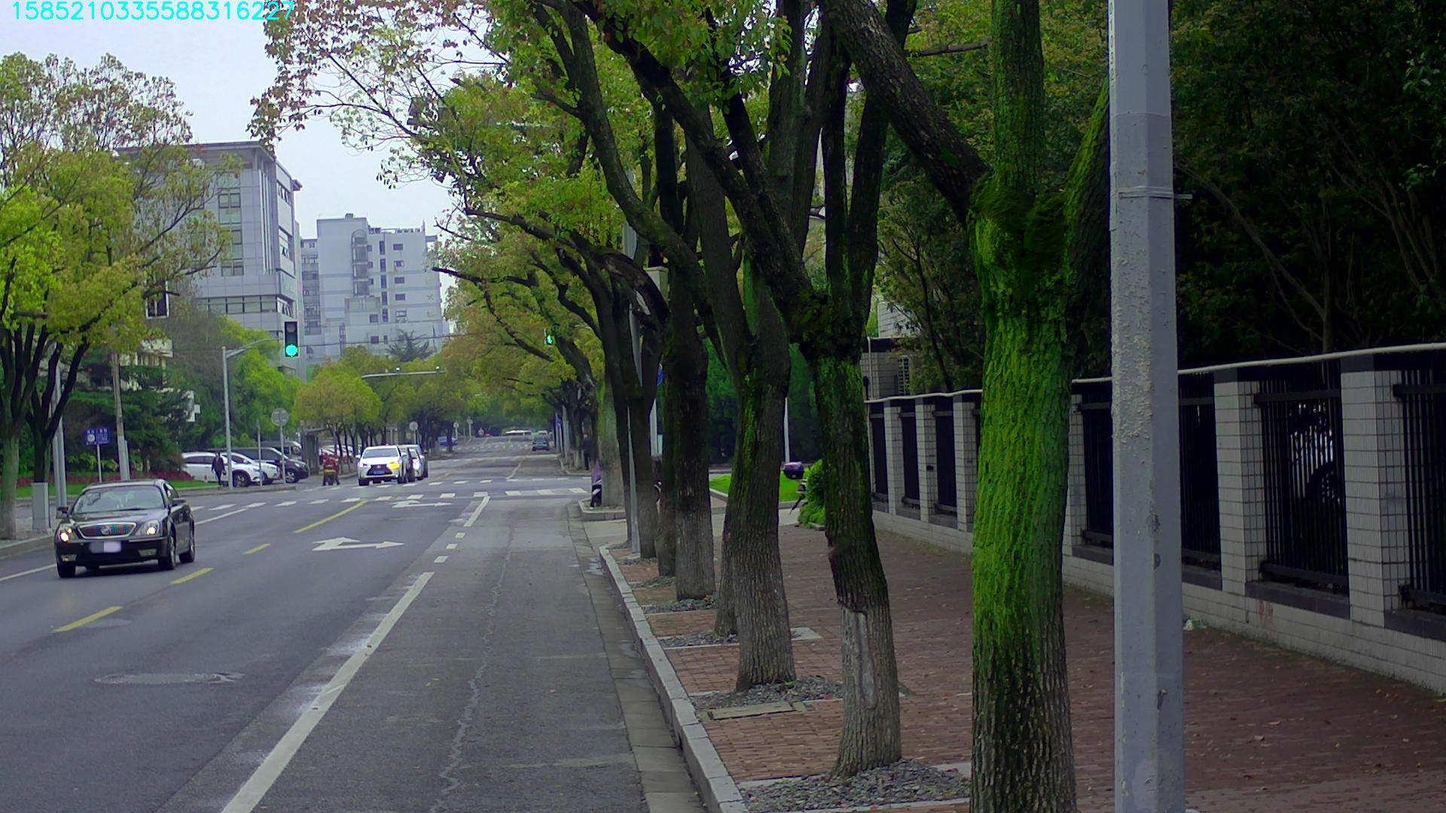green: (543, 306, 556, 346), (284, 321, 297, 357)
